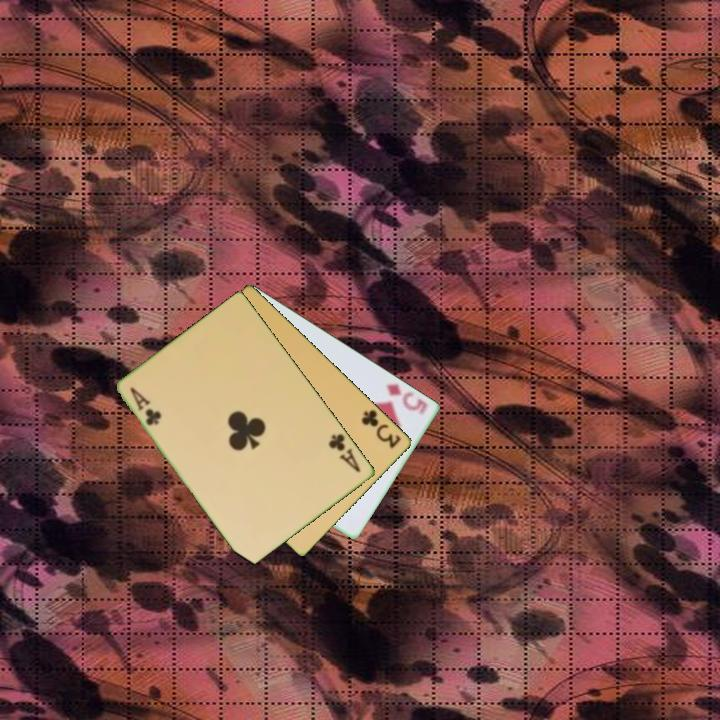3c: (358, 406, 404, 451)
5d: (383, 380, 431, 418)
Ac: (325, 430, 364, 476), (127, 384, 165, 429)
